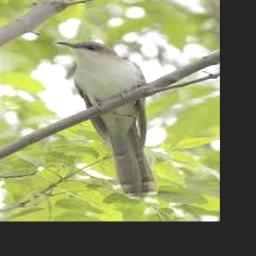Cuckoo: (56, 41, 158, 198)
